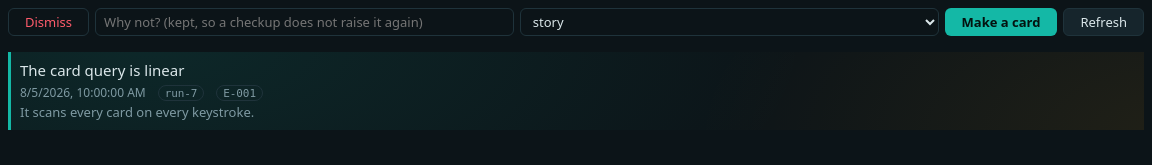
Test: the Suggestions pane › shows the server's refusal when carding fails
Click the button "Make a card" at point(1001, 22), box x1=944 y1=8 x2=1057 y2=36
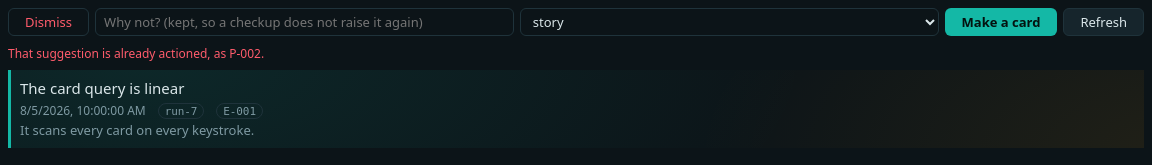
expect the text "That suggestion is already actioned, as P-002." is shown: met, box x1=8 y1=45 x2=264 y2=62
